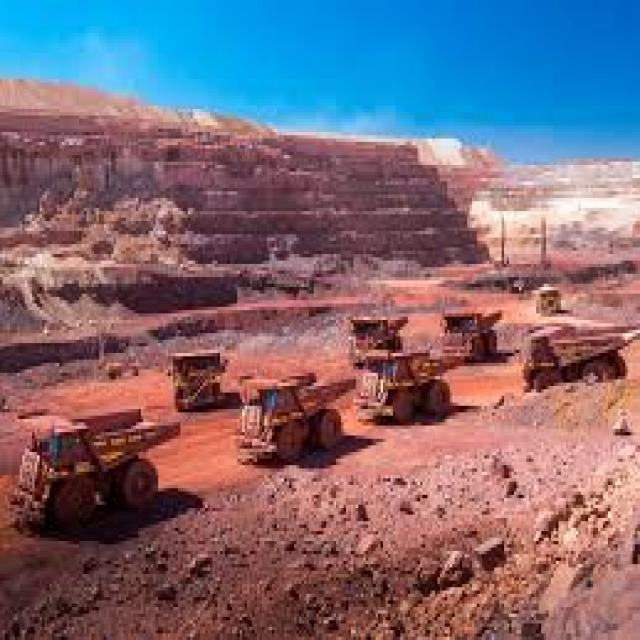dump_truck: (12, 396, 196, 541), (509, 297, 638, 429), (227, 356, 351, 478), (351, 340, 457, 445), (445, 290, 511, 370), (338, 303, 412, 373), (168, 343, 220, 406)
